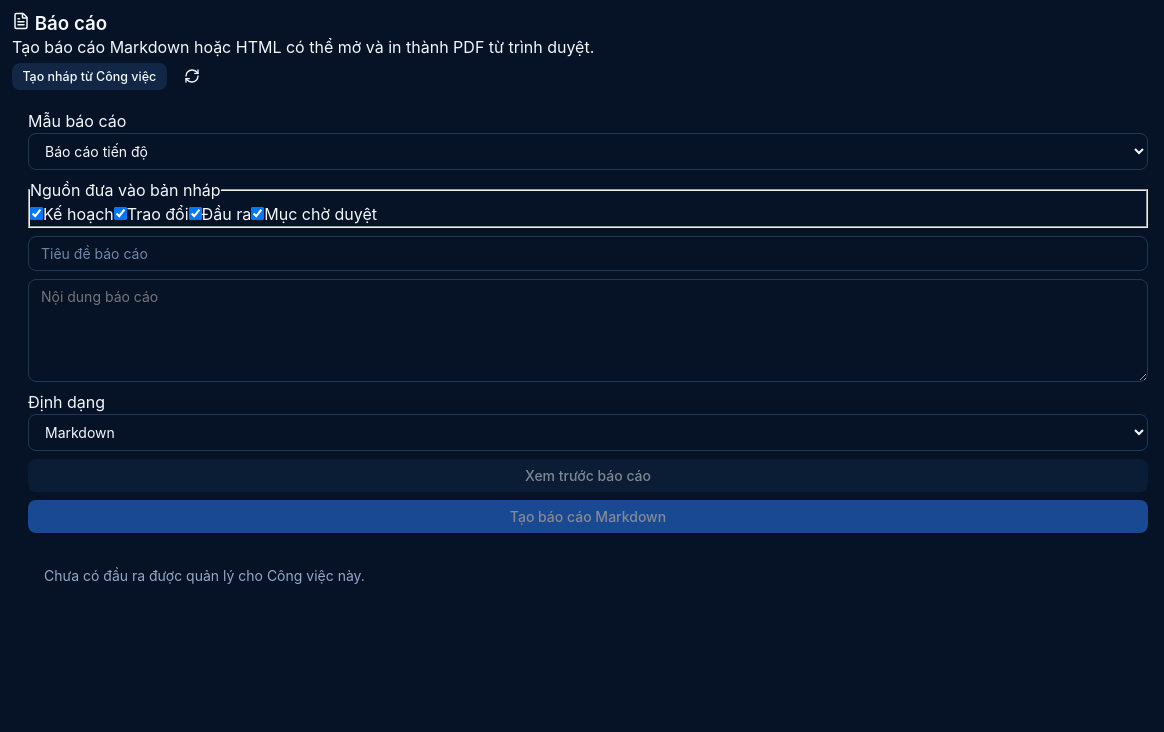
it: ReportsPanel › creates and displays a managed Markdown report
In the field labelled "Tiêu đề báo cáo": (588, 254) [28,236,1148,272], type "Weekly"
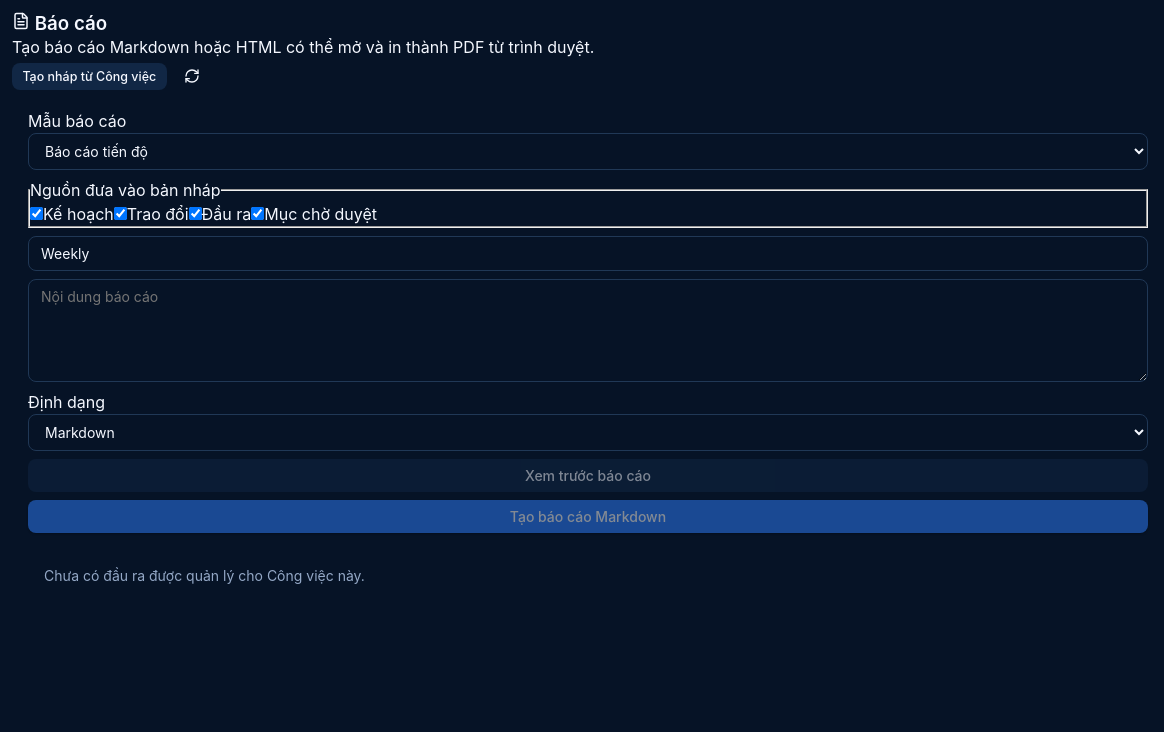
In the text box labelled "Nội dung báo cáo": (588, 331) [28,280,1148,382], type "Done"
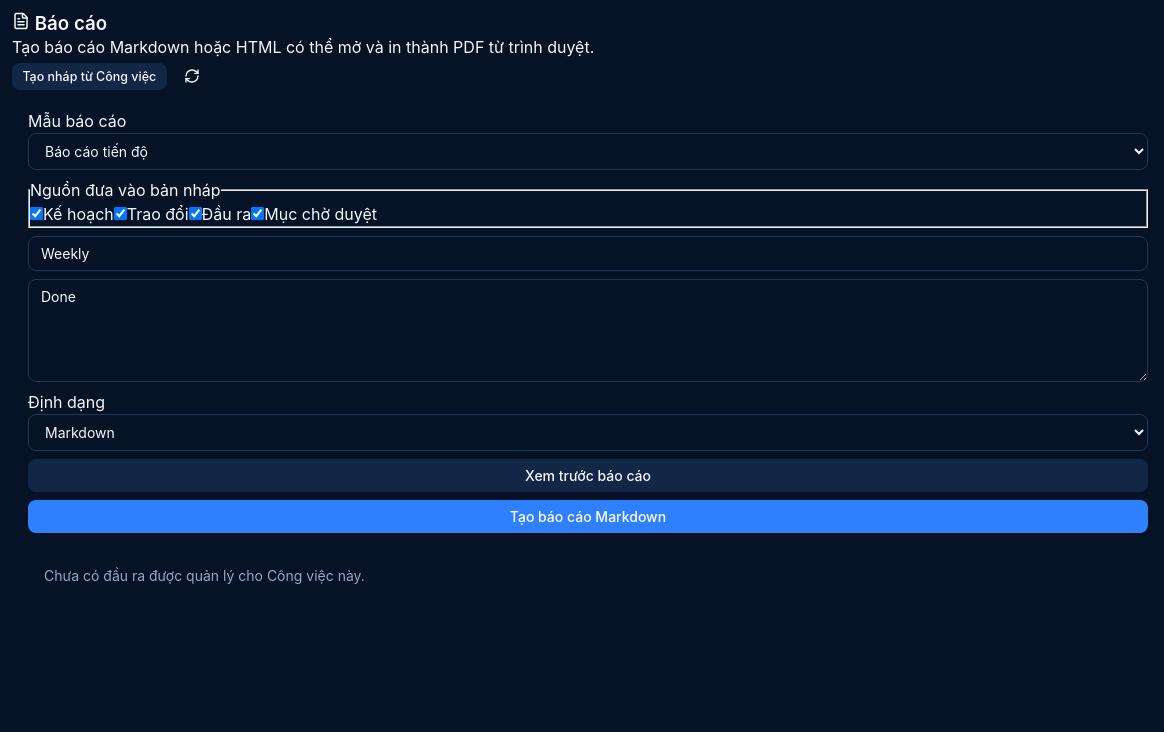
Click the button "Tạo báo cáo Markdown": (588, 517) [28,500,1148,534]
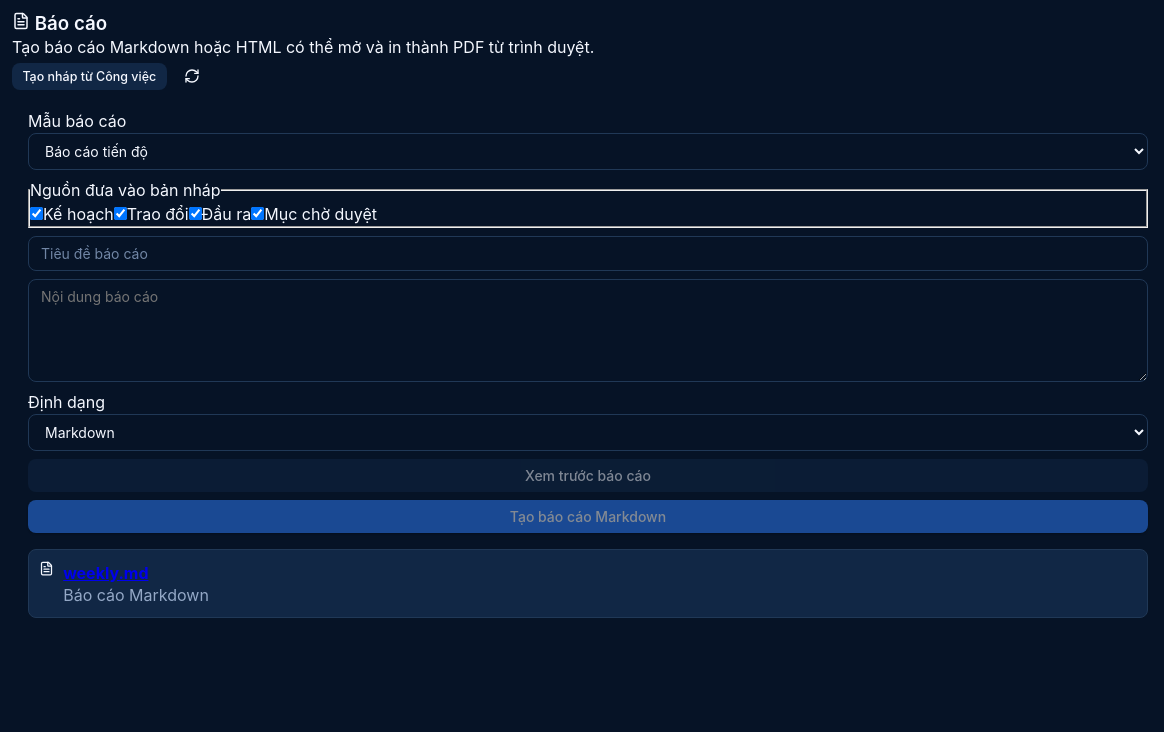
expect the text "weekly.md" is shown: met, box [63,563,148,583]
